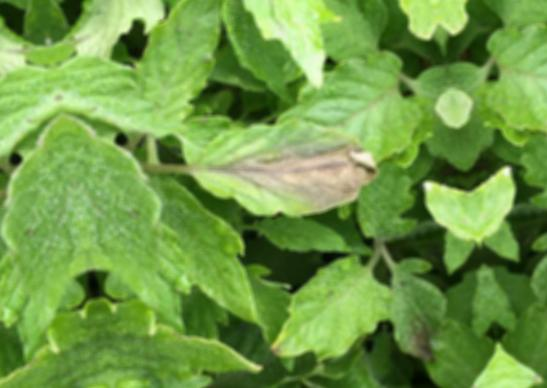Tomato mold leaf: (172, 77, 385, 255), (60, 92, 183, 343), (43, 0, 179, 178), (94, 261, 272, 388), (119, 0, 256, 157), (263, 241, 399, 365), (234, 0, 339, 118), (171, 373, 380, 388), (115, 374, 277, 388)
